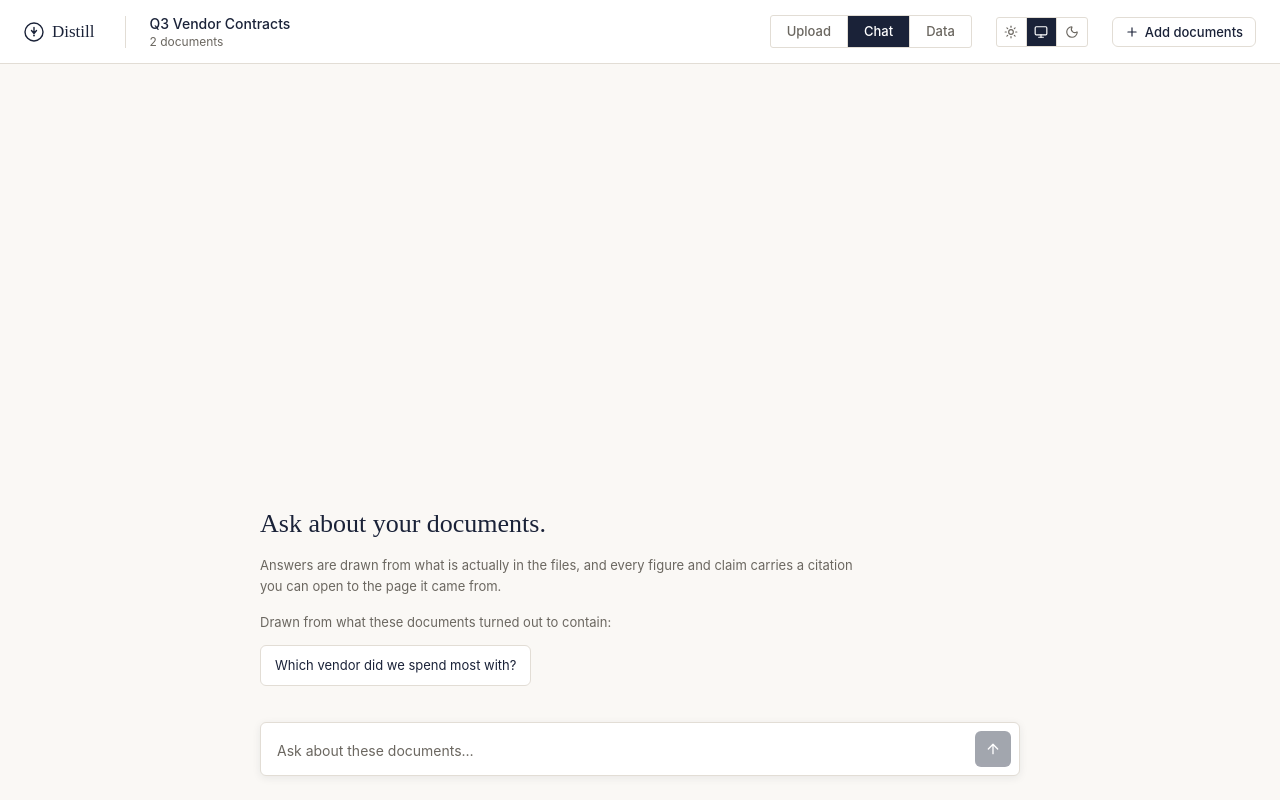
ChatScreen › turns a citation marker into a control that opens the source
This screenshot has width=1280, height=800.
Type "What's the total spend across all vendor contracts?" into the text box labelled "Ask about these documents…" at [618, 750], box x1=269 y1=734 x2=967 y2=767
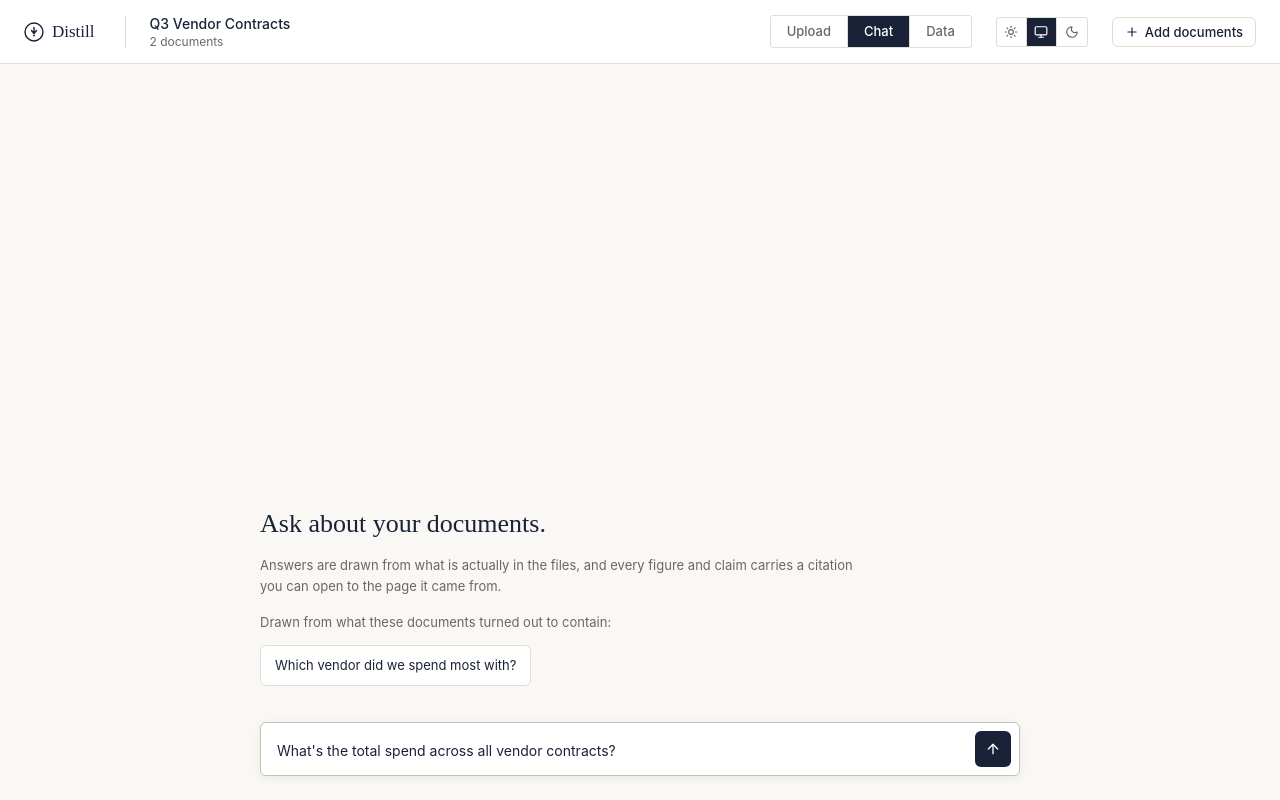
Click the button named "send question" at [993, 749], box x1=975 y1=731 x2=1011 y2=767
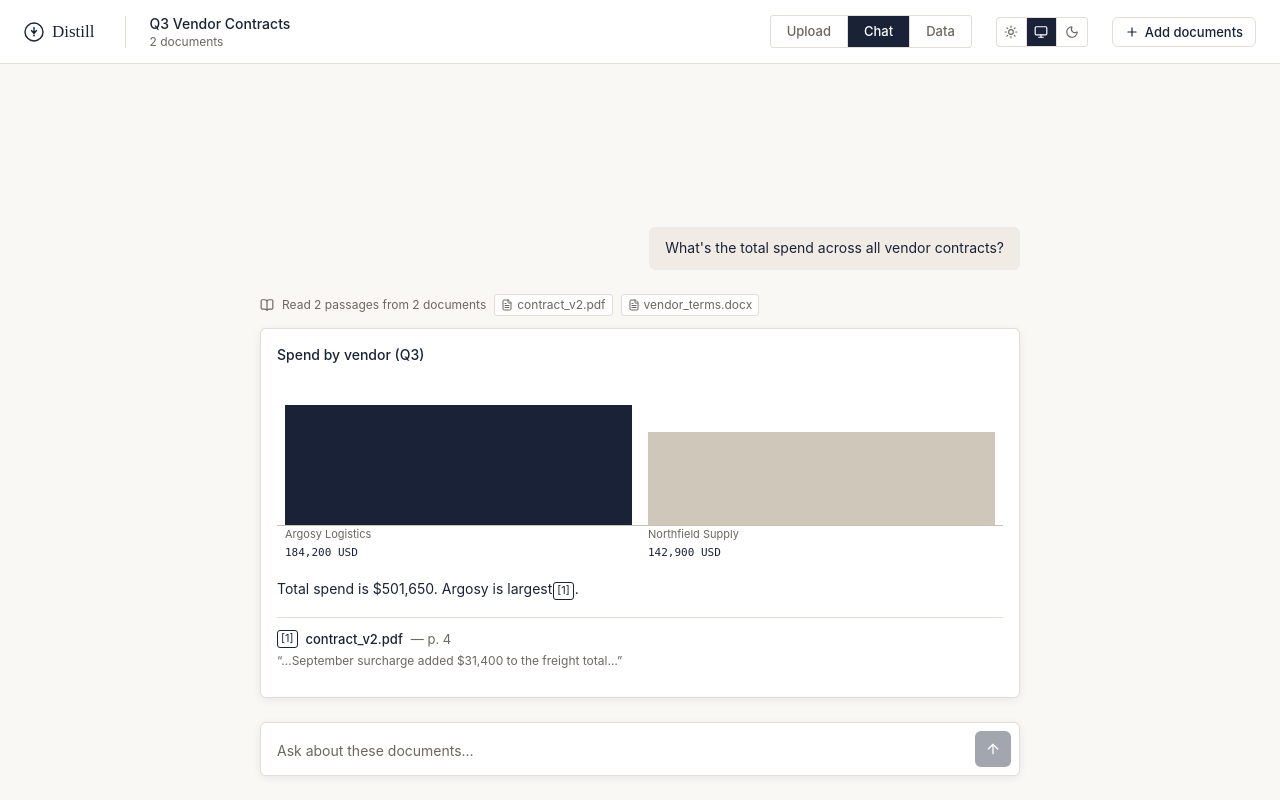
Click the button named "show source 1" at [564, 591], box x1=553 y1=582 x2=574 y2=600
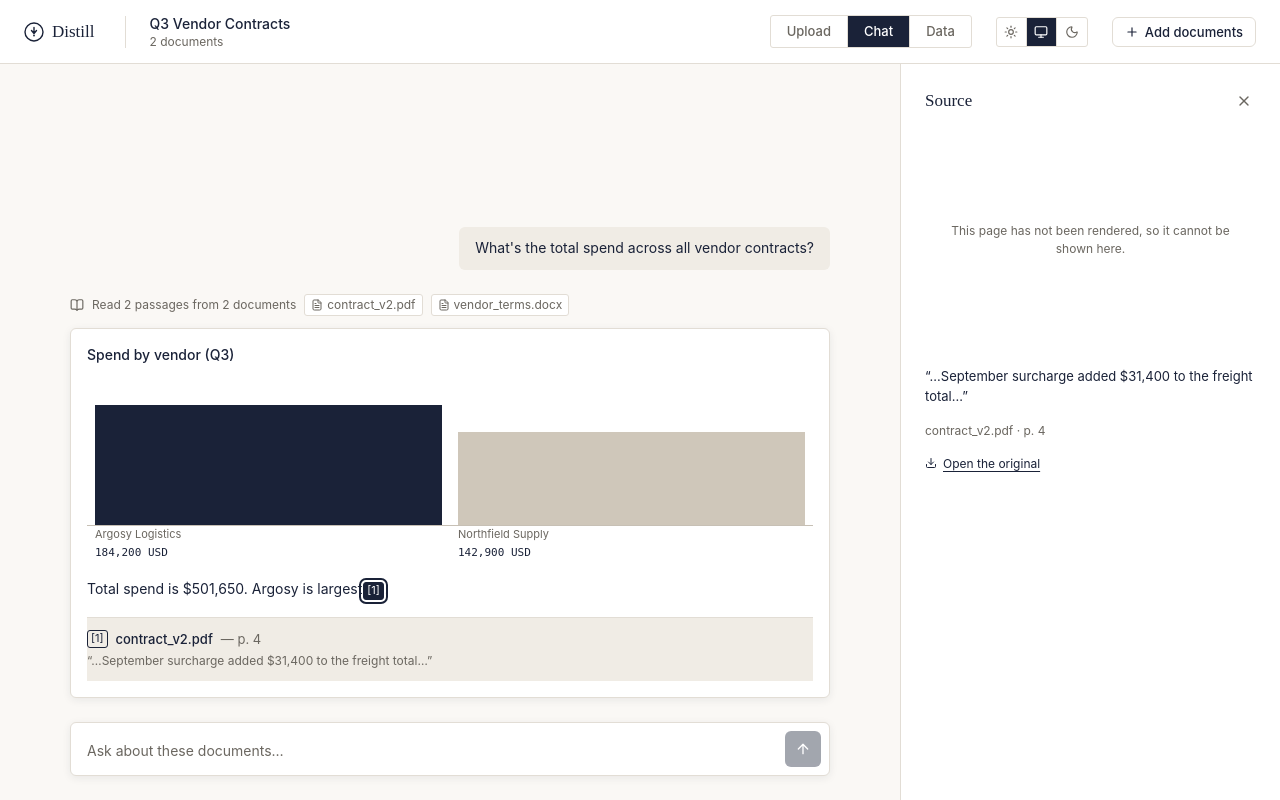
Expected: the text "“…September surcharge added $31,400 to the freight total…”" below "Source" is shown, x1=925 y1=368 x2=1253 y2=404
Expected: the text "contract_v2.pdf · p. 4" is shown, x1=925 y1=423 x2=1045 y2=438
